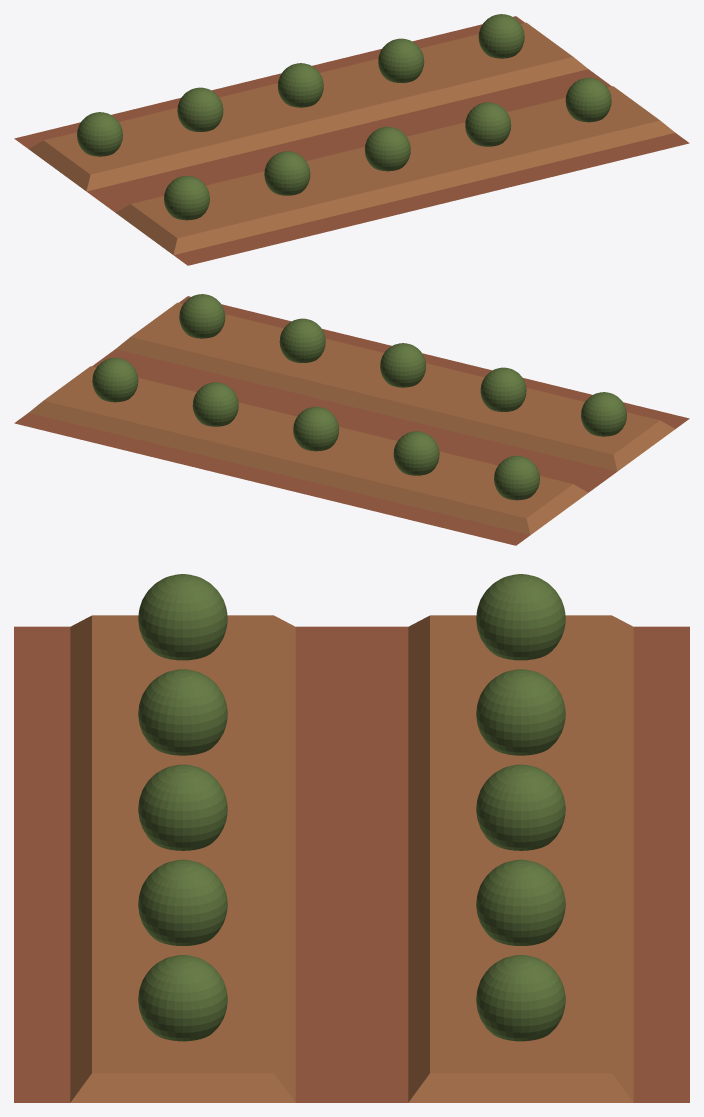
Rendered from gryadka.fbx.
The picture shows the model from 3 angles, top to bottom: view 1: azimuth 30°, elevation 25°; view 2: azimuth 150°, elevation 25°; view 3: azimuth 270°, elevation 25°; orthographic projection. The views are drawn at different scales.
Visible parts, largest first — view 1: Plane.040; view 2: Plane.040; view 3: Plane.040.
Part boxes in pixels (box(x1,y1,x2,y2)): Plane.040: box(14, 14, 689, 265); Plane.040: box(14, 294, 689, 545); Plane.040: box(14, 574, 689, 1102).
Bounding box in the file's own units: 500 × 43.54 × 300.
